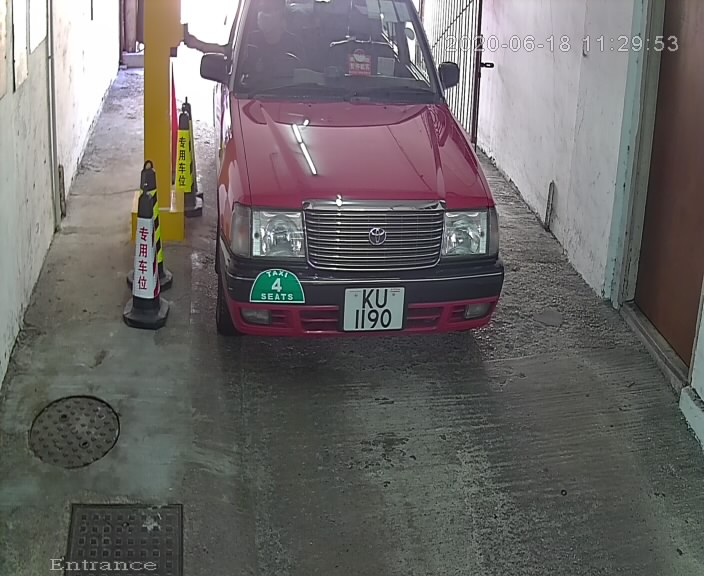taxi: (192, 2, 518, 373)
taxi_mark: (245, 257, 312, 314)
